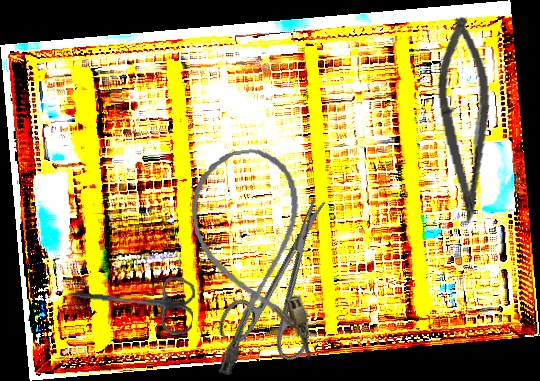Cannula: (184, 144, 319, 377)
Iris Scissors: (214, 182, 364, 370), (65, 266, 197, 337)
Micro Scissor: (430, 13, 503, 228)
